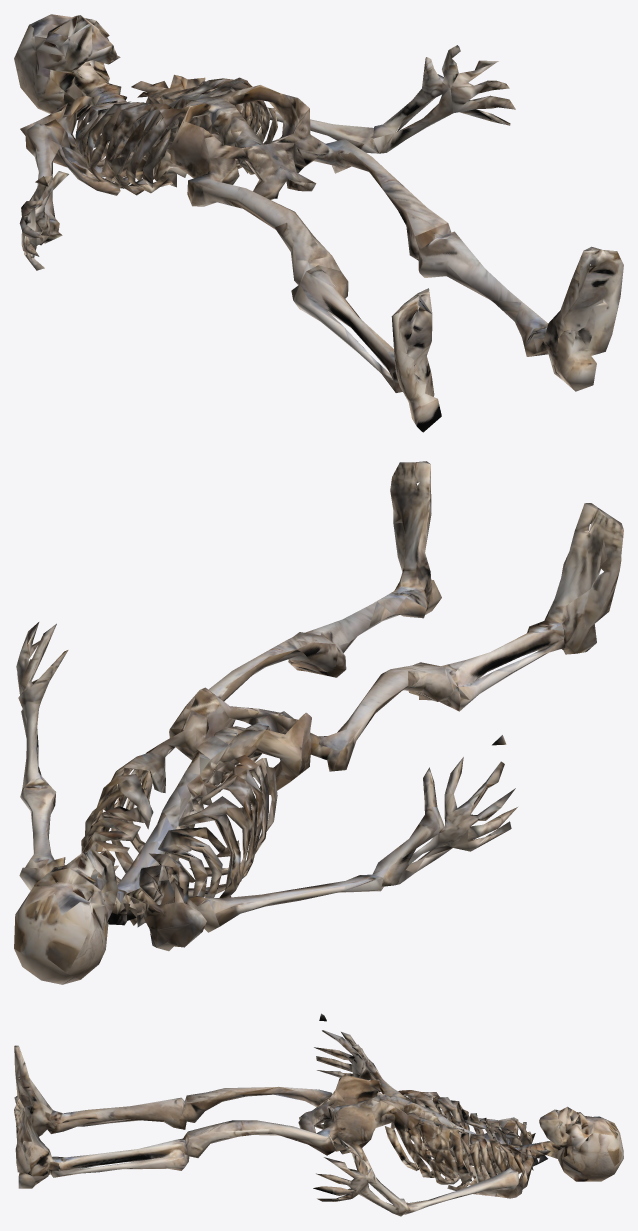
Rendered from old_skeleton_of_a_mal_0220064452_texture.fbx.
3 views of the same model, one above another, from view 1: azimuth 30°, elevation 25°; view 2: azimuth 150°, elevation 25°; view 3: azimuth 270°, elevation 25° (orthographic). The views are drawn at different scales.
Parts seen in each view (by area): view 1: Mesh_0; view 2: Mesh_0; view 3: Mesh_0.
Part boxes in pixels (bbox=[...]): Mesh_0: bbox=[14, 14, 623, 432]; Mesh_0: bbox=[14, 461, 623, 984]; Mesh_0: bbox=[14, 1013, 623, 1216].
Bounding box in the file's own units: 118 × 41.46 × 201.
1 material, 1 textured.
